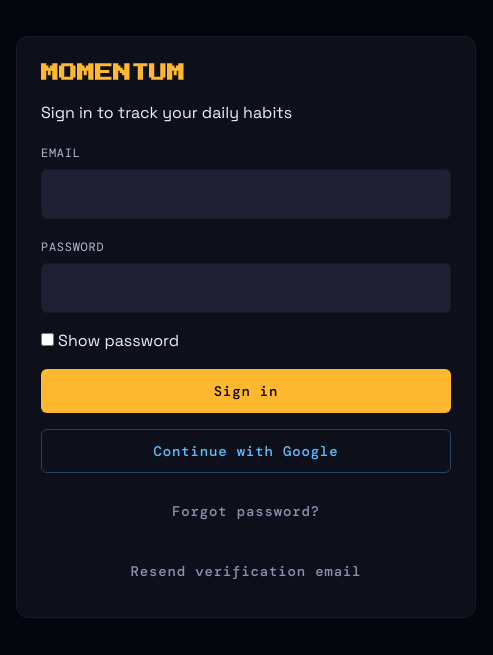
Test case: SignIn error paths › shows the error string returned by signIn
The width and height of the screenshot is (493, 655).
In the field labelled "Email": point(246, 194) [41,169,451,219], type "user@example.com"
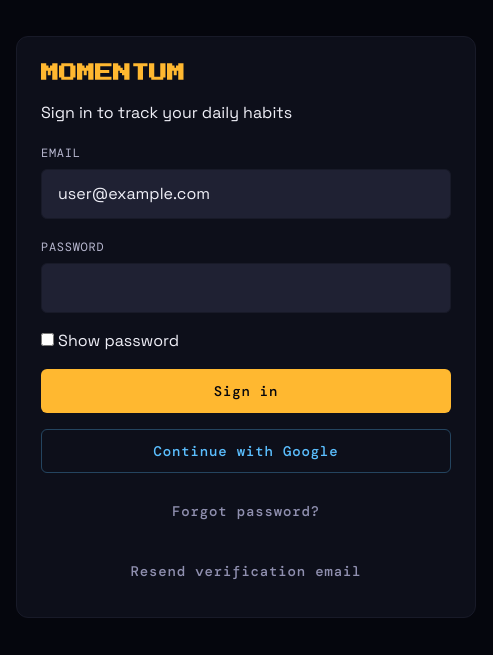
In the password field labelled "Password": point(246, 288) [41,263,451,313], type "wrong"
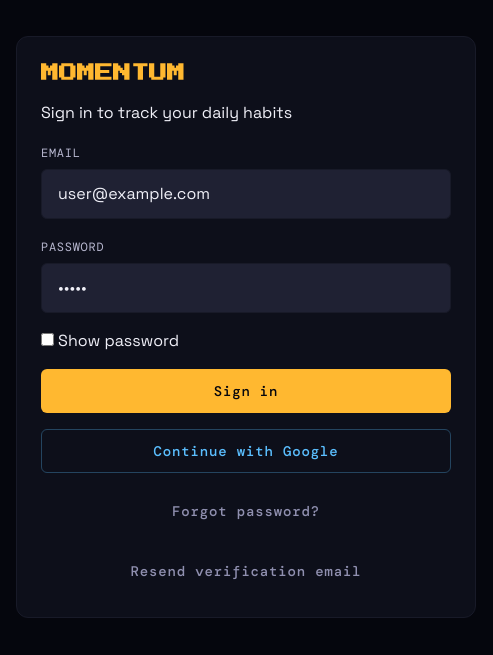
Click the button "Sign in": point(246, 391) [41,369,451,413]
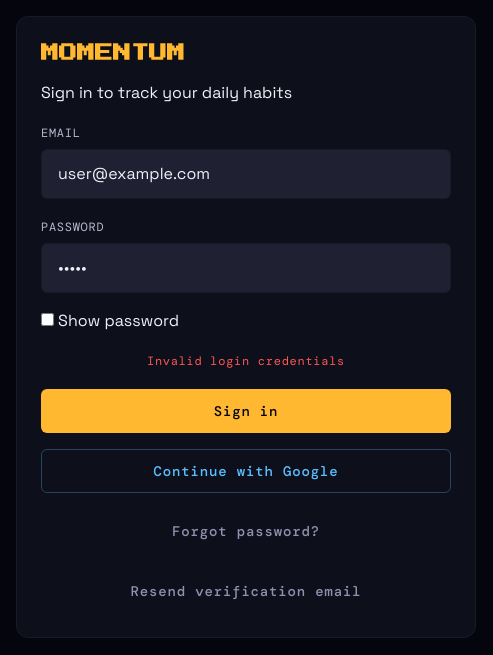
Expected: the message reads "Invalid login credentials", [147,353,345,369]
